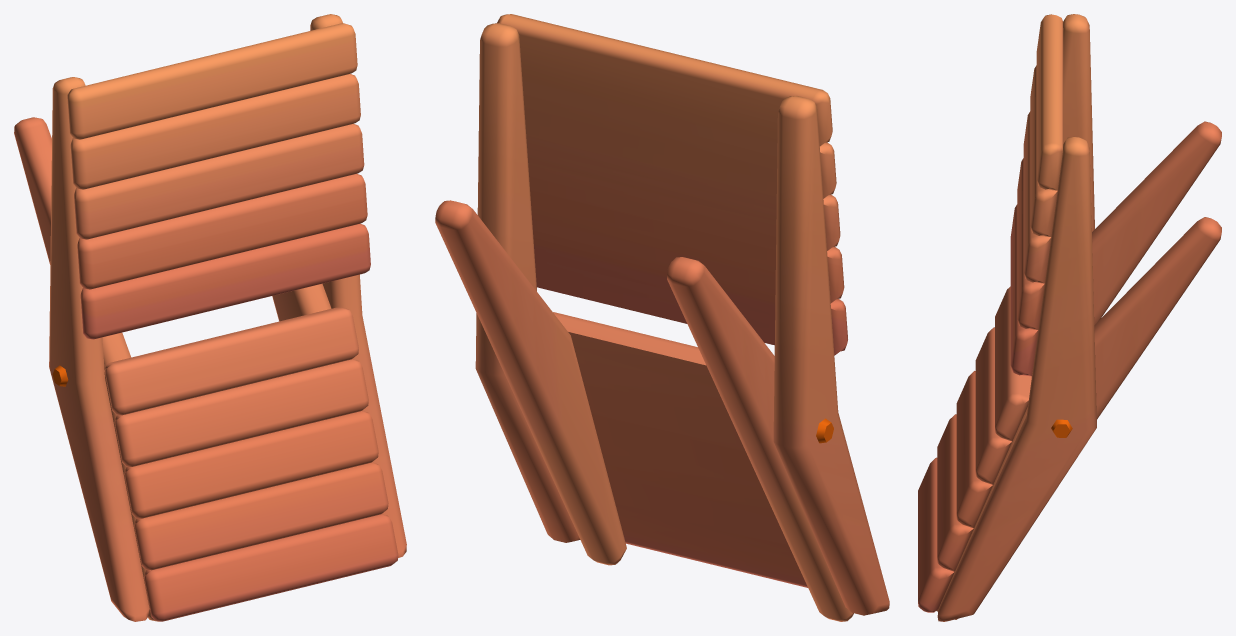
Rendered from Chair_12.glb.
3 views of the same model, side by side, from view 1: azimuth 30°, elevation 25°; view 2: azimuth 150°, elevation 25°; view 3: azimuth 270°, elevation 25° (orthographic). The views are drawn at different scales.
Visible parts, largest first — view 1: Chair_12; view 2: Chair_12; view 3: Chair_12.
Part boxes in pixels (x1=…): Chair_12: x1=14, y1=14, x2=406, y2=621; Chair_12: x1=435, y1=14, x2=889, y2=621; Chair_12: x1=918, y1=14, x2=1221, y2=621.
Size of the model in its own units: 0.52 by 0.8392 by 0.4707.
1 material, 1 textured.
